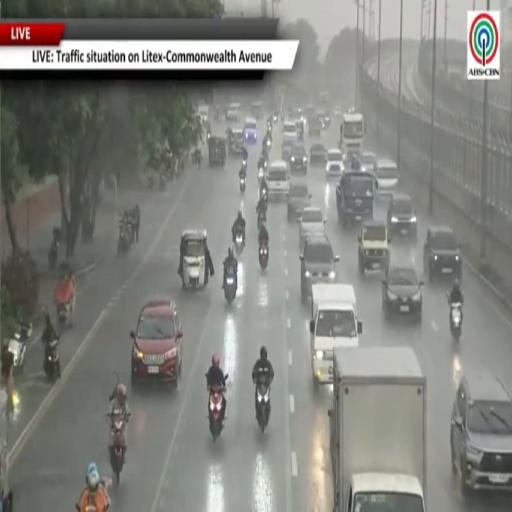car: (450, 368, 511, 493), (131, 299, 182, 385), (300, 235, 339, 299), (382, 263, 423, 319), (423, 226, 462, 280), (358, 219, 389, 274), (387, 194, 417, 238), (299, 206, 325, 249), (376, 158, 399, 199), (288, 182, 311, 221), (267, 160, 290, 199), (326, 149, 343, 179), (290, 144, 307, 173), (243, 118, 257, 145), (310, 143, 326, 166), (360, 152, 377, 173), (230, 128, 244, 153), (282, 121, 297, 142), (226, 103, 241, 122), (308, 117, 322, 136), (282, 140, 294, 162), (303, 104, 315, 122), (251, 102, 263, 120), (198, 105, 209, 124), (318, 110, 330, 127), (295, 119, 304, 140), (333, 106, 343, 117)
motorcycle: (107, 410, 130, 485), (8, 322, 32, 371), (54, 279, 75, 327), (209, 386, 225, 441), (44, 336, 61, 380), (256, 382, 270, 431), (8, 333, 26, 371), (48, 227, 61, 271), (117, 222, 133, 254), (56, 298, 73, 327), (224, 268, 237, 305), (450, 302, 462, 341), (48, 239, 59, 271), (0, 489, 13, 511), (234, 229, 244, 255), (75, 504, 109, 511), (259, 244, 268, 269), (257, 212, 266, 231), (260, 187, 267, 206), (159, 173, 166, 190), (240, 175, 246, 193), (258, 167, 264, 183), (266, 137, 272, 149), (242, 158, 247, 168), (273, 114, 278, 123), (281, 111, 284, 121)
truck: (328, 347, 426, 511), (310, 283, 362, 385), (336, 169, 375, 227), (340, 112, 365, 154)
